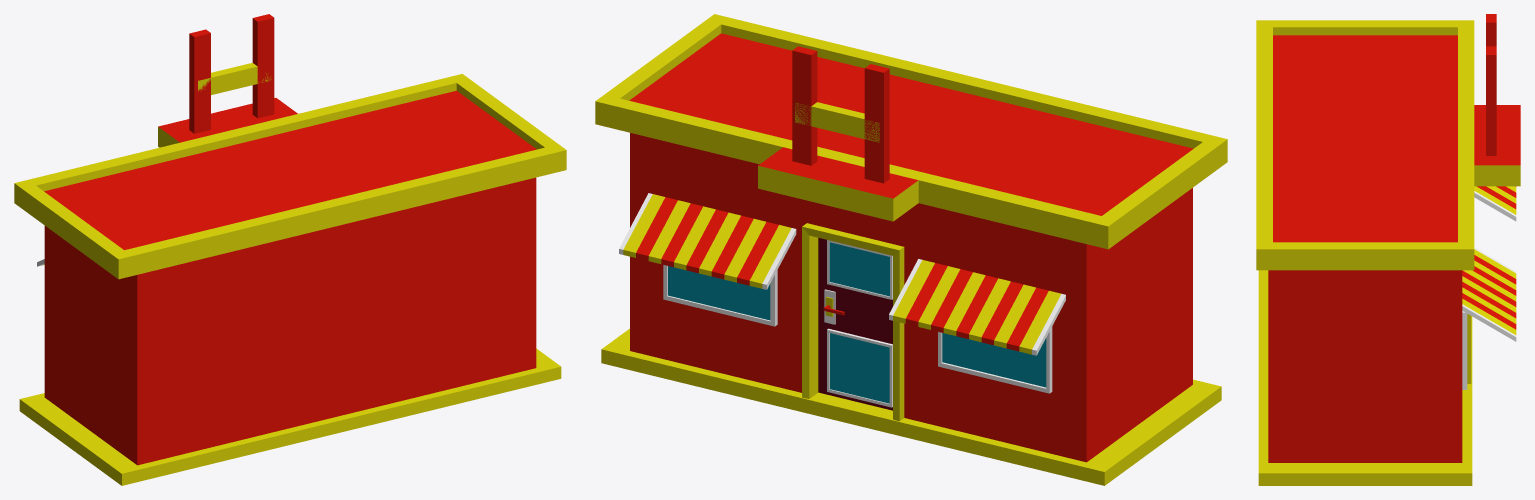
Rendered from Building 9 A3 .fbx.
3 renders of one model, left to right at view 1: azimuth 30°, elevation 25°; view 2: azimuth 150°, elevation 25°; view 3: azimuth 270°, elevation 25°, orthographic. The views are drawn at different scales.
Visible parts, largest first — view 1: Cube; view 2: Cube; view 3: Cube.
Part boxes in pixels (box(x1,y1,x2,y2)): Cube: box(14, 14, 566, 485); Cube: box(595, 14, 1227, 485); Cube: box(1256, 14, 1520, 485).
Size of the model in its own units: 558 by 387 by 272.
